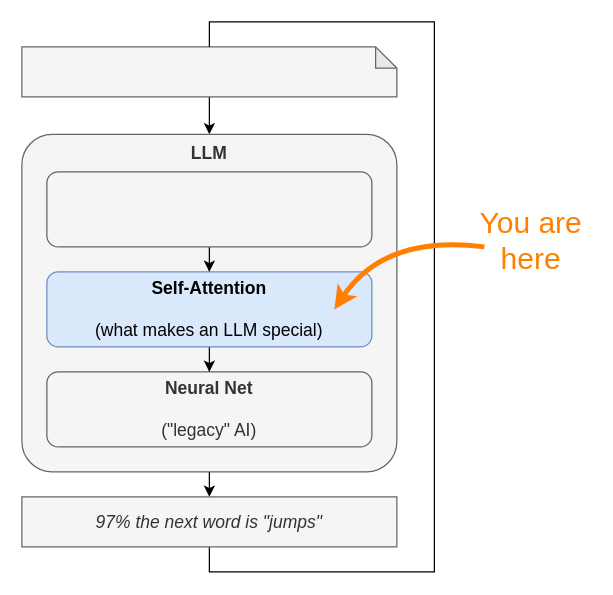
Image size: 613x595. Some labels were removed from this diagram. The shapes that lost their labels are listed below. From the top down, each one's box as (x1, y1, x2, y2) in pixels, then its label:
(21, 46, 397, 97): "The quck brown fox"
(46, 171, 372, 247): Tokenization & Embeddings (no AI)
